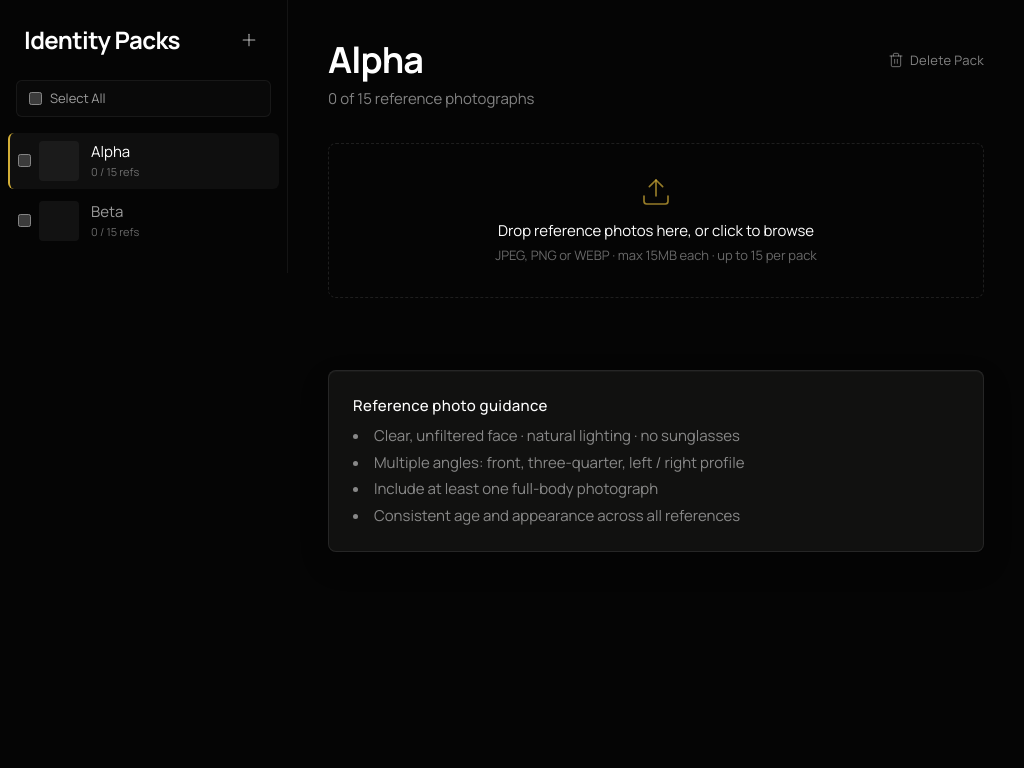
it: Identity Packs recovery › selects a remaining pack after deleting the active one
The width and height of the screenshot is (1024, 768).
Expected: the heading with test id "pack-detail-name" reads "Alpha", [328,35,423,84]
Click the button with test id "delete-pack-btn".
click(936, 60)  # box [888,51,984,69]
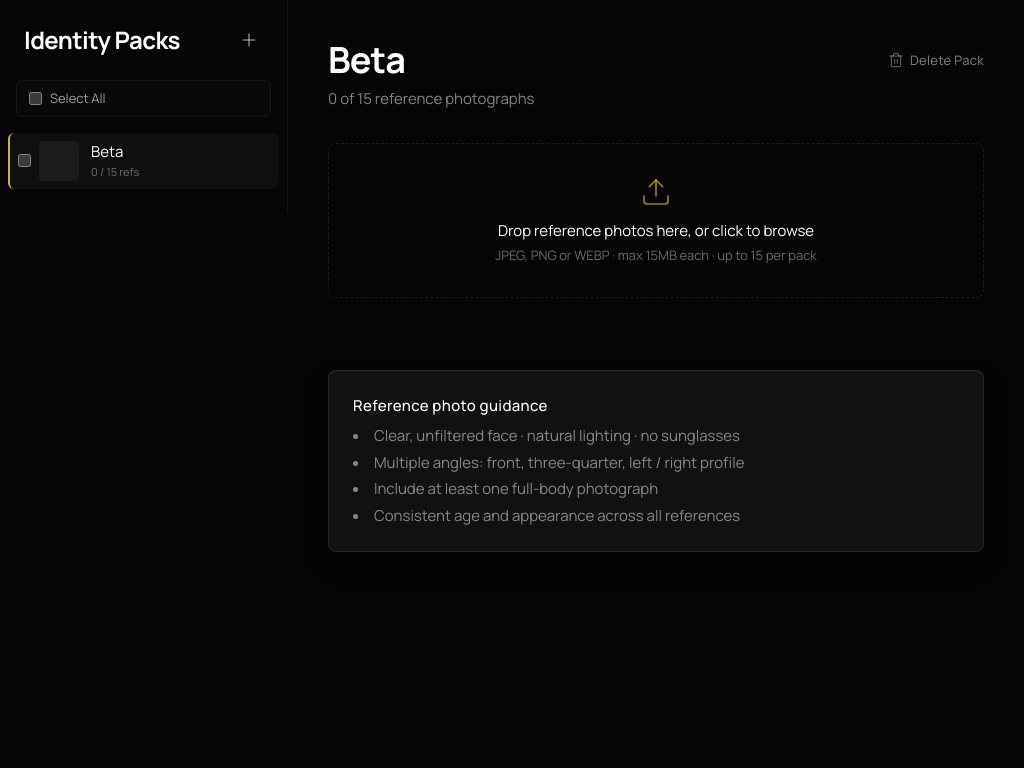
Expected: the heading with test id "pack-detail-name" reads "Beta", [328,35,405,84]
